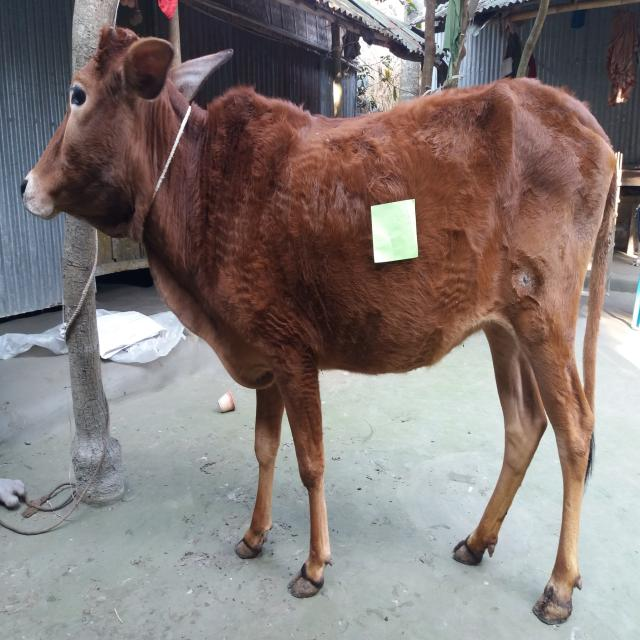badan_sapi: (259, 116, 614, 374)
sapi: (15, 25, 623, 630)
